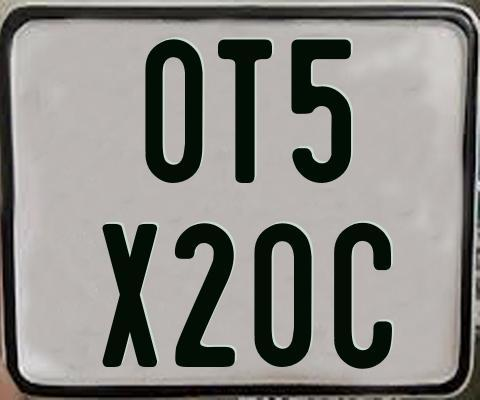0: (254, 221, 317, 367), (143, 38, 203, 183)
2: (174, 223, 240, 373)
5: (291, 36, 352, 182)
C: (331, 220, 390, 372)
T: (216, 38, 270, 187)
X: (100, 222, 157, 369)
